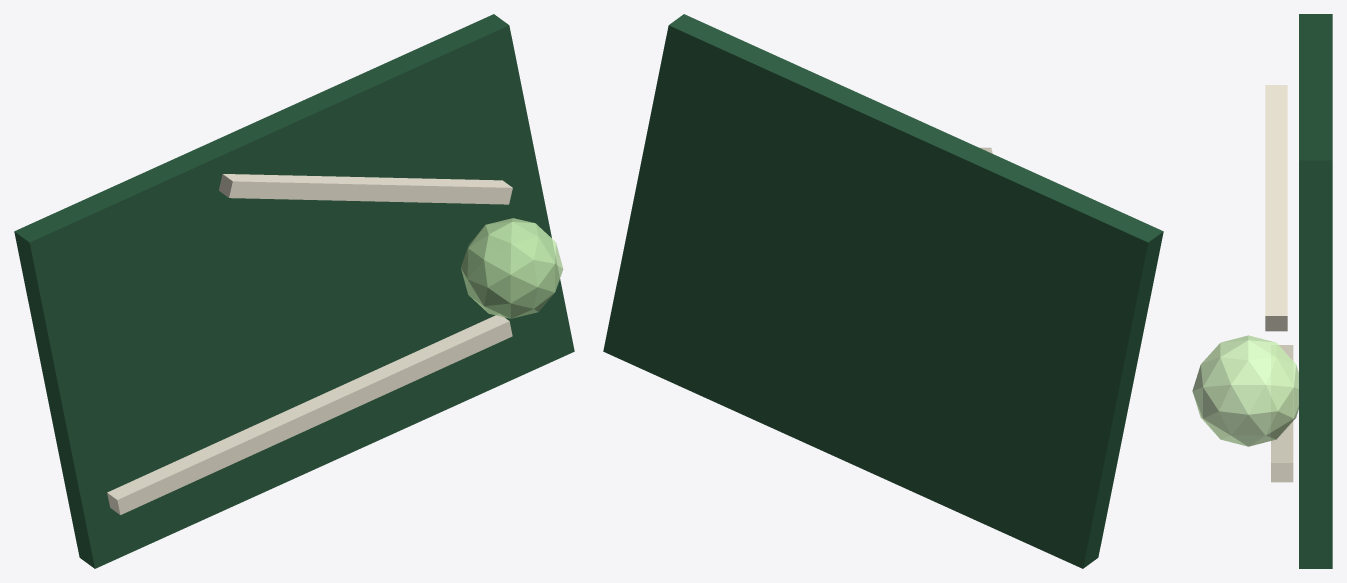
File: 02_world_prop_polish.glb
The picture shows the model from 3 angles, left to right: view 1: azimuth 30°, elevation 25°; view 2: azimuth 150°, elevation 25°; view 3: azimuth 270°, elevation 25°; orthographic projection. The views are drawn at different scales.
Visible parts, largest first — view 1: object_overlay_plate, edge_wear_a, glow_socket, edge_wear_b; view 2: object_overlay_plate; view 3: object_overlay_plate, glow_socket, edge_wear_b, edge_wear_a.
Part boxes in pixels (x1,y1,x2,y2): object_overlay_plate: (14,14,574,568); edge_wear_a: (107,314,512,514); glow_socket: (461,218,563,318); edge_wear_b: (219,174,512,204); object_overlay_plate: (603,14,1163,568); object_overlay_plate: (1299,14,1332,568); glow_socket: (1192,335,1298,446); edge_wear_b: (1265,85,1287,331); edge_wear_a: (1271,345,1293,482).
Size of the model in its own units: 1.23 by 0.951 by 0.25.
